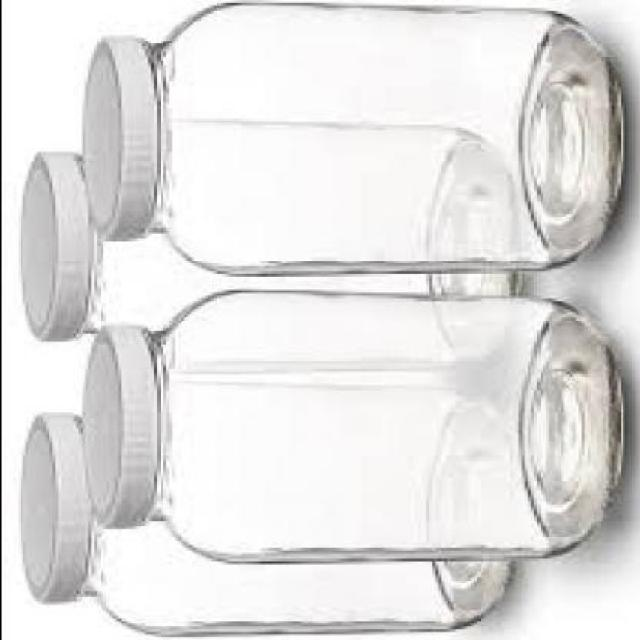GLASS: (141, 3, 616, 271), (141, 291, 622, 555), (75, 117, 518, 369), (66, 412, 508, 630)
PLASTIC: (78, 323, 156, 526), (81, 36, 152, 236), (15, 409, 80, 602), (15, 148, 80, 340)
